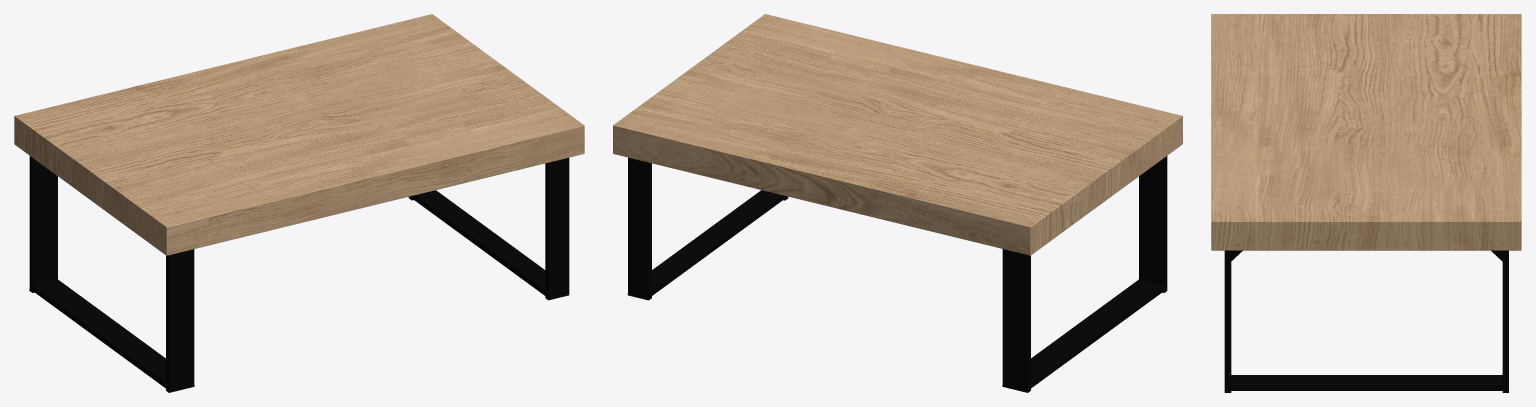
Rendered from tarsele_stolik_kawowy_70587605.glb.
3 views of the same model, side by side, from view 1: azimuth 30°, elevation 25°; view 2: azimuth 150°, elevation 25°; view 3: azimuth 270°, elevation 25° (orthographic).
Parts seen in each view (by area): view 1: tarsele_stolik_kawowy_70587605; view 2: tarsele_stolik_kawowy_70587605; view 3: tarsele_stolik_kawowy_70587605.
Part boxes in pixels (box(x1,y1,x2,y2)): tarsele_stolik_kawowy_70587605: box(14, 14, 584, 392); tarsele_stolik_kawowy_70587605: box(613, 14, 1182, 392); tarsele_stolik_kawowy_70587605: box(1211, 14, 1521, 392).
Size of the model in its own units: 1.14 by 0.4501 by 0.72.
Materials: 1 (1 with a texture image).
